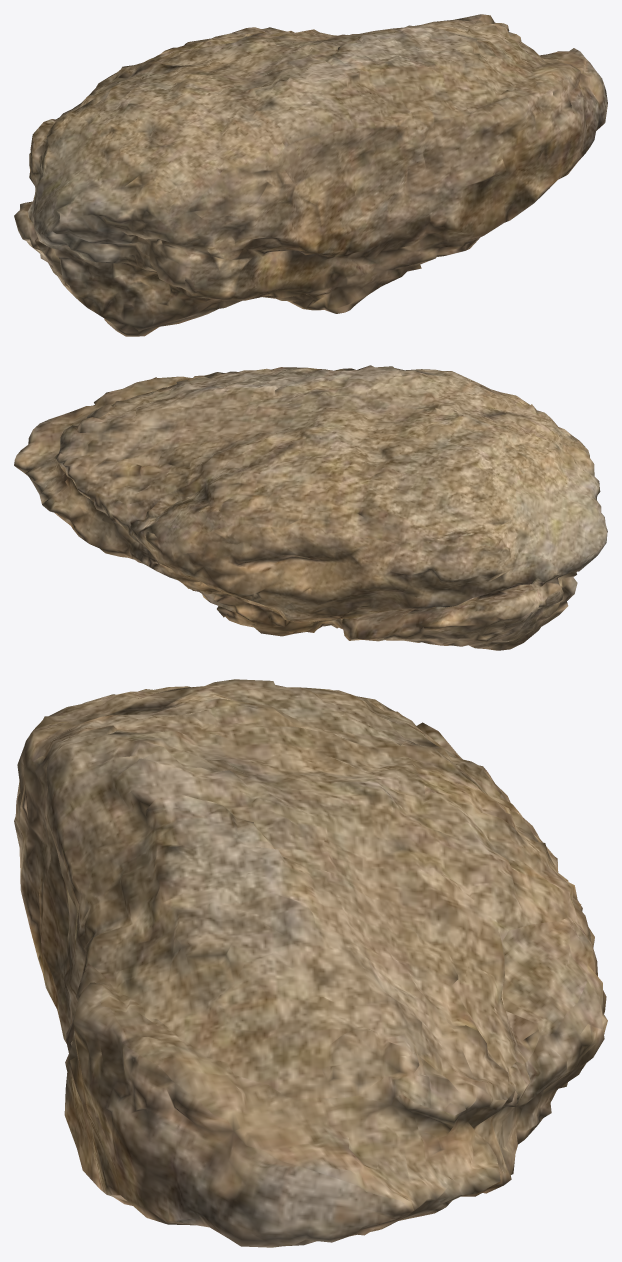
Rendered from granito_b.glb.
3 views of the same model, one above another, from view 1: azimuth 30°, elevation 25°; view 2: azimuth 150°, elevation 25°; view 3: azimuth 270°, elevation 25° (orthographic). The views are drawn at different scales.
Parts seen in each view (by area): view 1: namaqualand_boulder_05; view 2: namaqualand_boulder_05; view 3: namaqualand_boulder_05.
Part boxes in pixels (box(x1,y1,x2,y2)): namaqualand_boulder_05: box(14, 14, 607, 336); namaqualand_boulder_05: box(14, 365, 607, 650); namaqualand_boulder_05: box(14, 679, 607, 1247).
Size of the model in its own units: 1.36 by 0.5362 by 0.748.
Materials: 1 (1 with a texture image).
